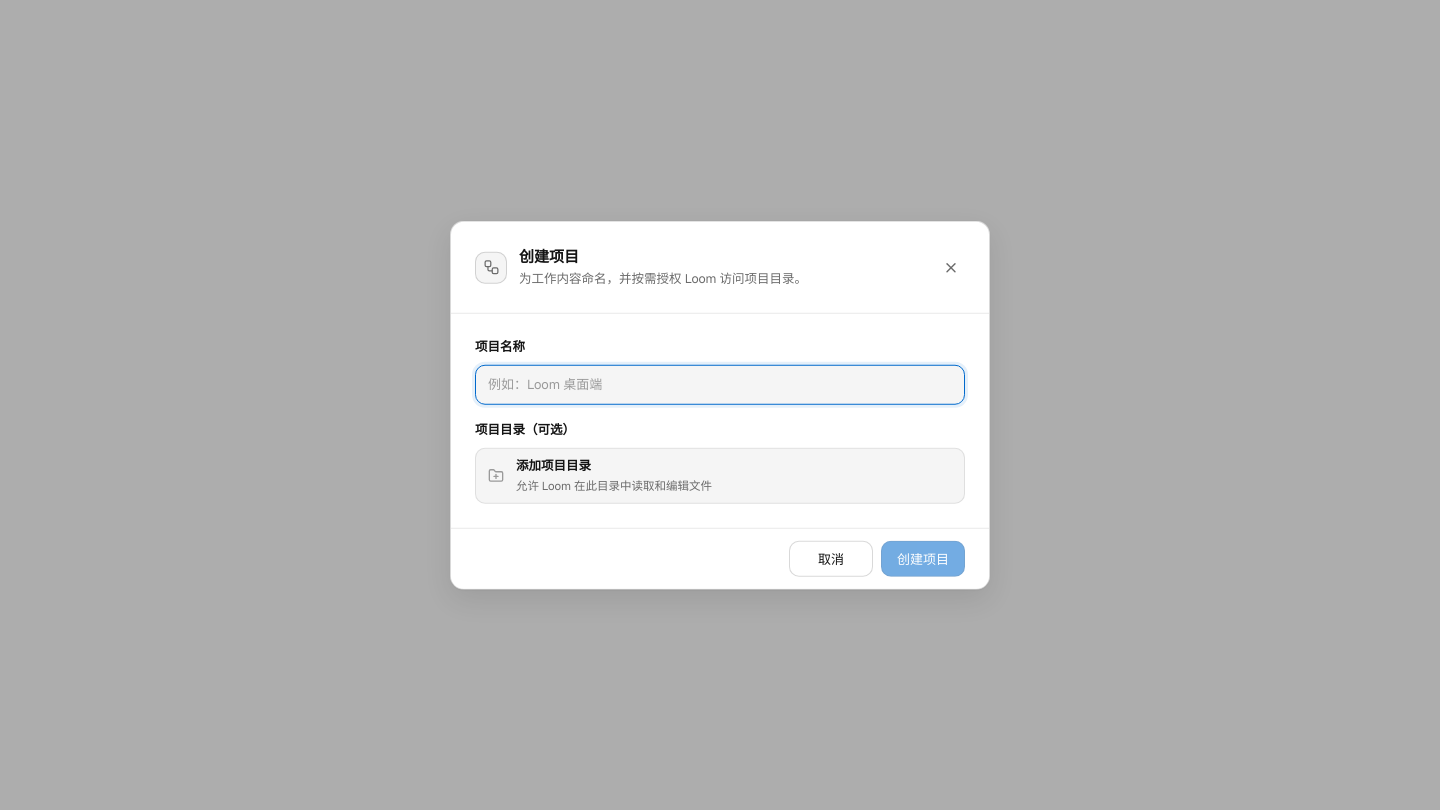
Scenario: CreateProjectDialog › keeps a rejected submission open and exposes the failure
Type "demo" into the field labelled "项目名称".
click(720, 384); type("demo")  # box [475,364,965,404]
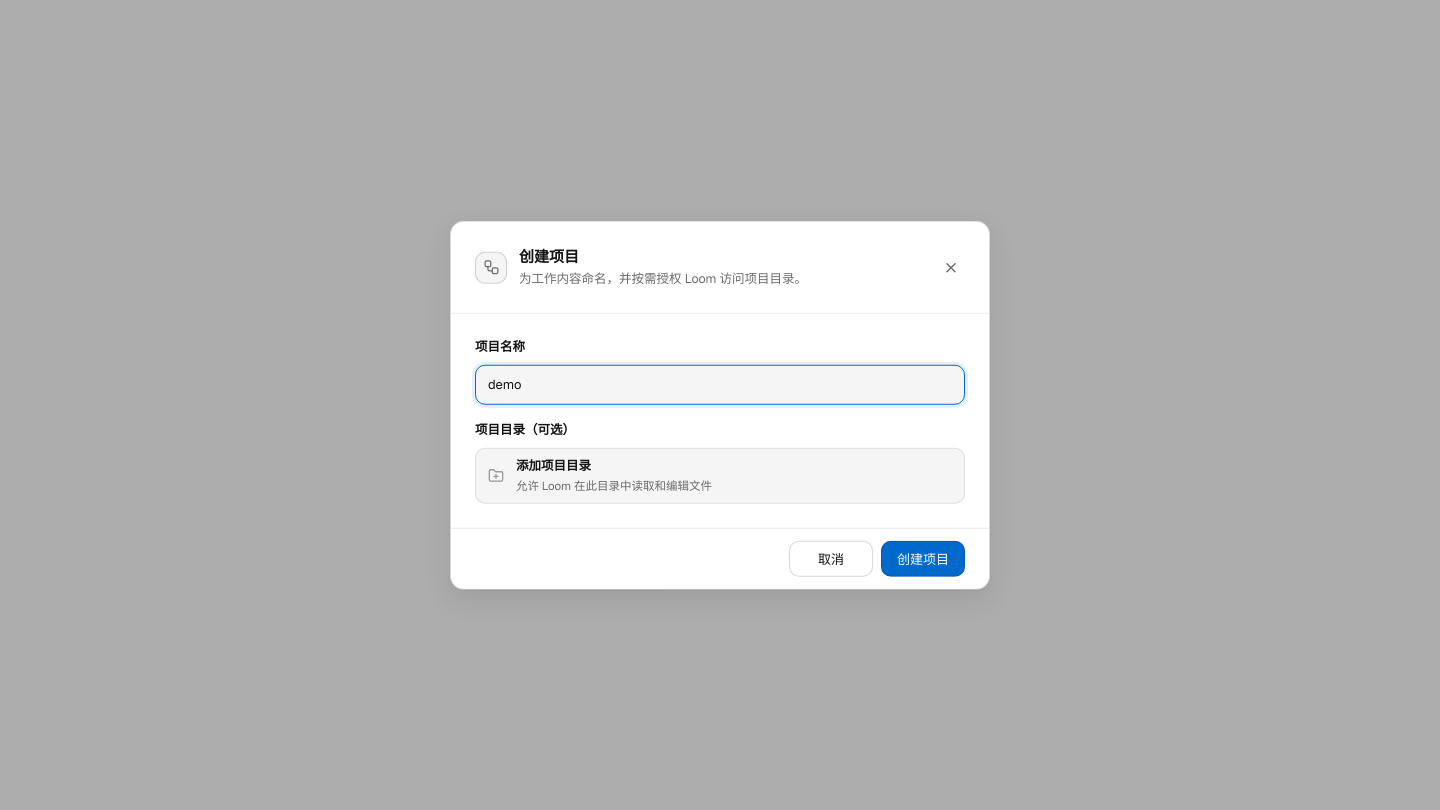
Submit the form labelled "项目名称", box [451,314,989,588]
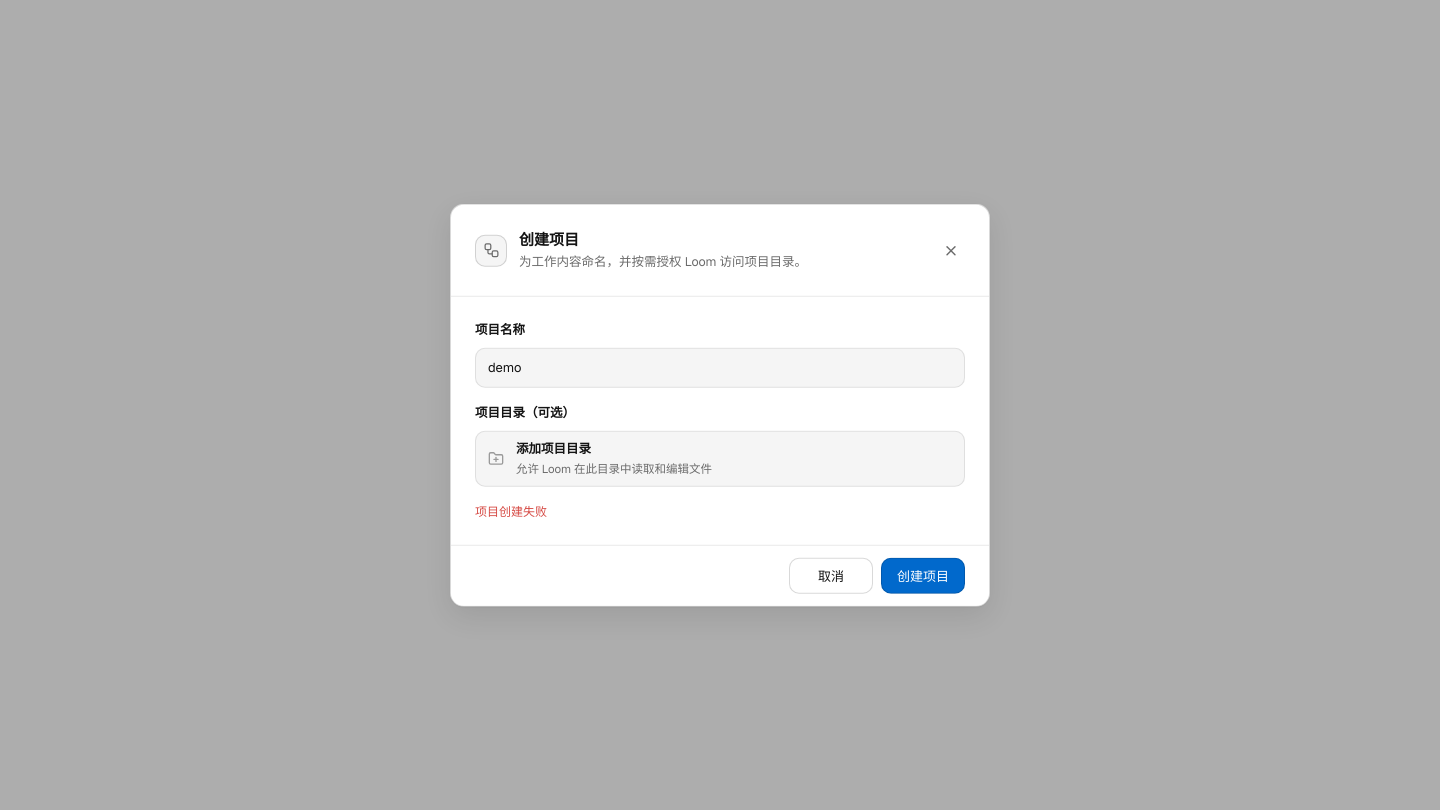
expect the dialog "创建项目" is shown: met, box [450,204,990,606]
expect the message reads "项目创建失败": met, box [475,503,547,519]
